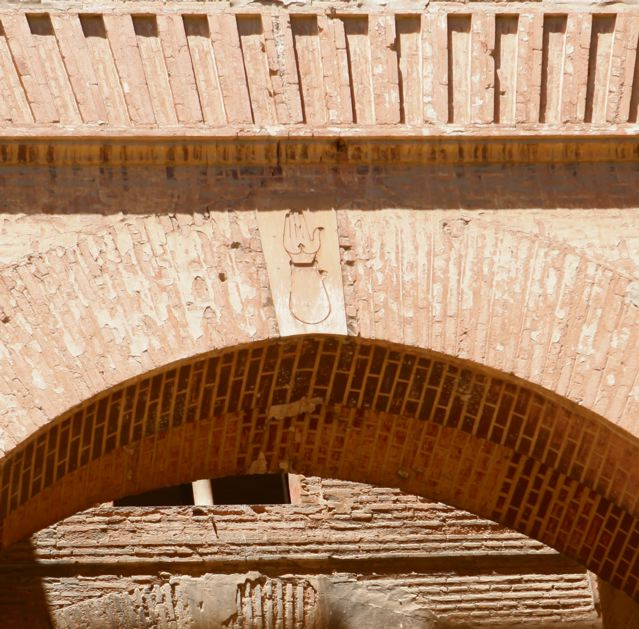dintel-adovelado: (1, 1, 639, 164)
